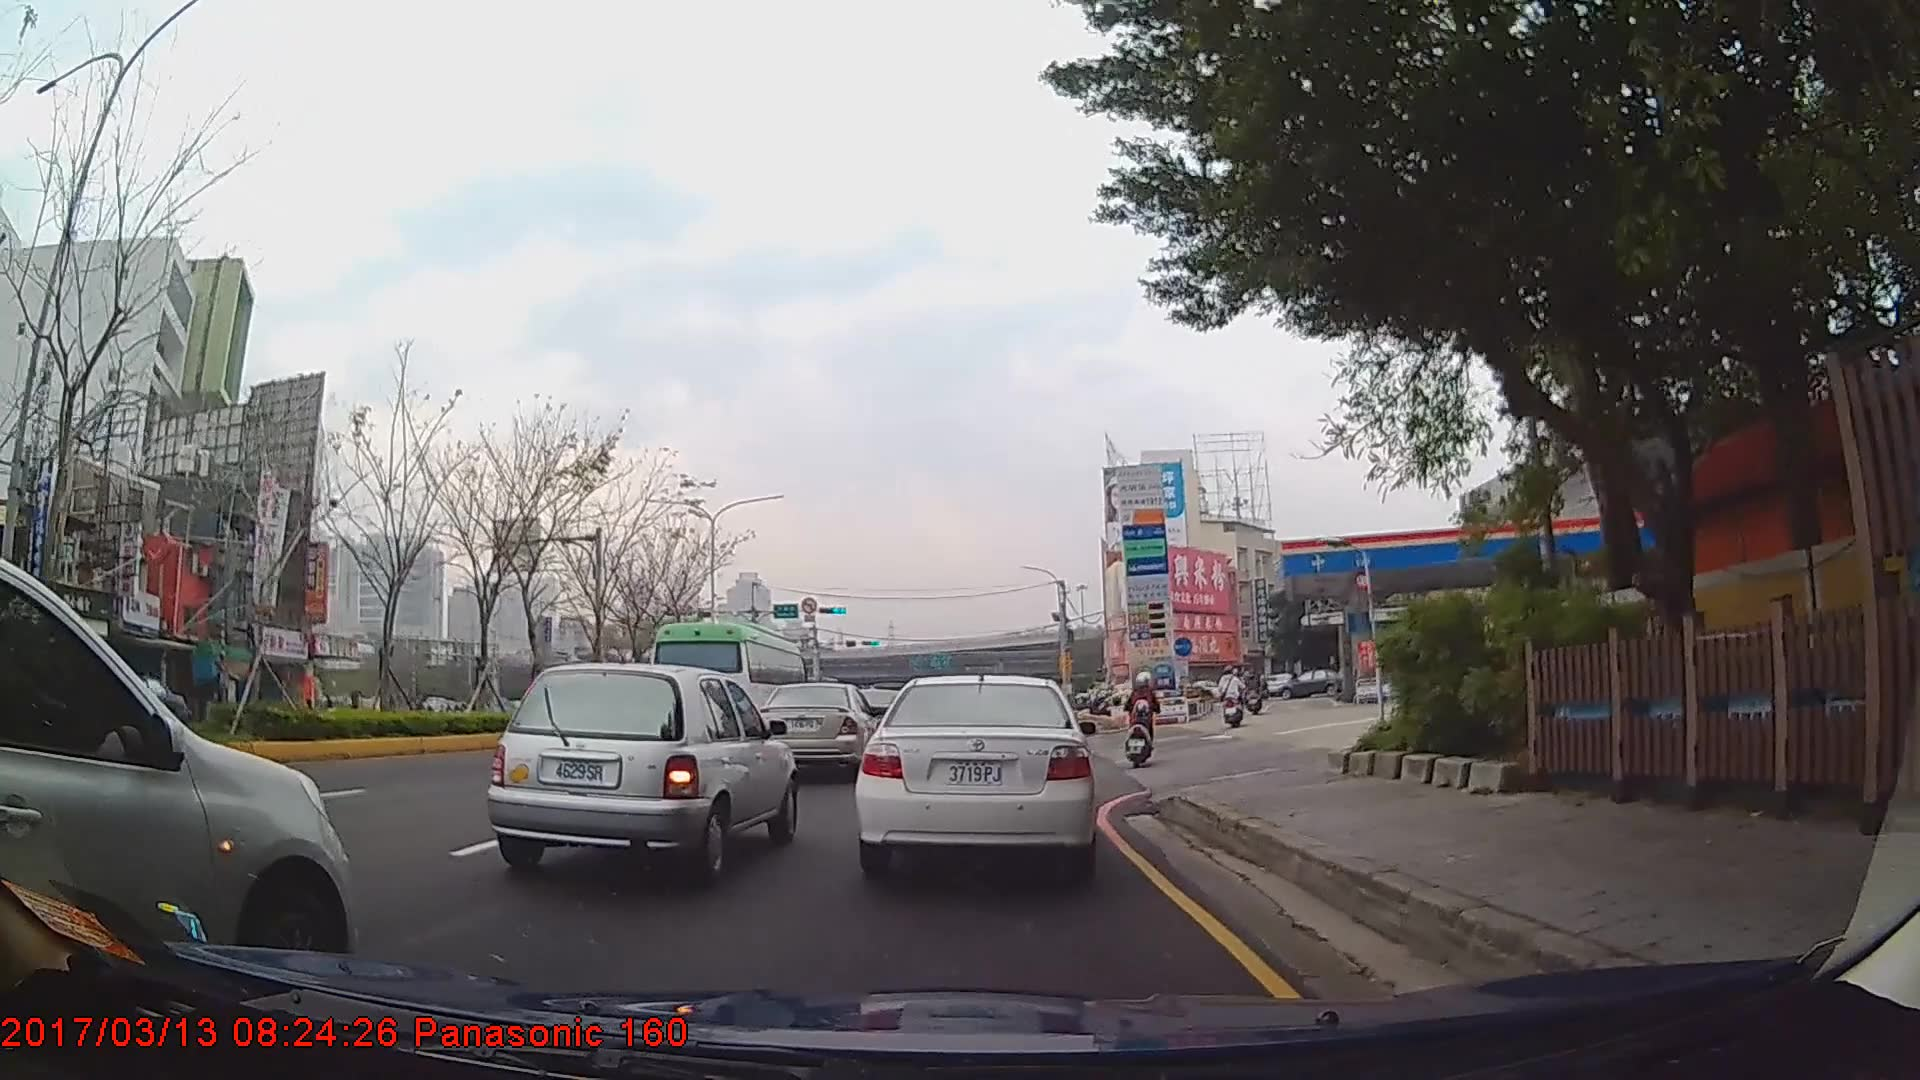rider: (1127, 672, 1160, 763), (1217, 663, 1246, 727)
vehicle: (0, 556, 353, 993), (487, 659, 800, 883), (861, 670, 1095, 878), (644, 619, 807, 753), (752, 681, 881, 775), (90, 671, 193, 736), (1276, 667, 1346, 697)
